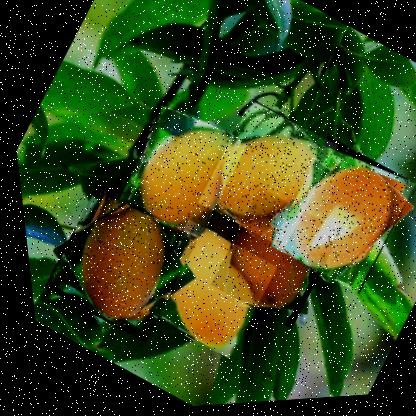mango: (26, 179, 200, 348), (253, 133, 415, 302), (183, 96, 341, 256), (124, 216, 277, 365), (100, 97, 250, 248), (193, 185, 343, 335)
